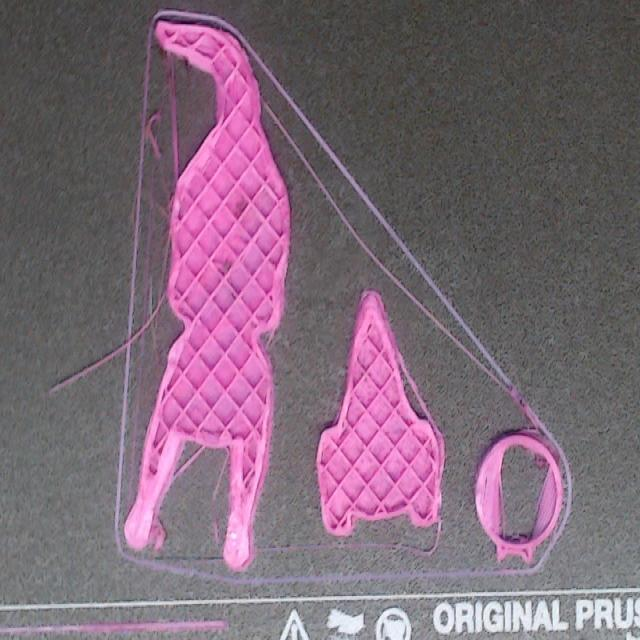mistake: (152, 9, 571, 568), (131, 44, 214, 329), (271, 139, 379, 301), (115, 304, 179, 544), (475, 429, 563, 561), (53, 292, 165, 388), (335, 192, 374, 244), (280, 297, 313, 349), (166, 59, 179, 184), (212, 453, 228, 543), (174, 447, 205, 479), (146, 111, 161, 159), (151, 516, 166, 548), (267, 331, 278, 345)
